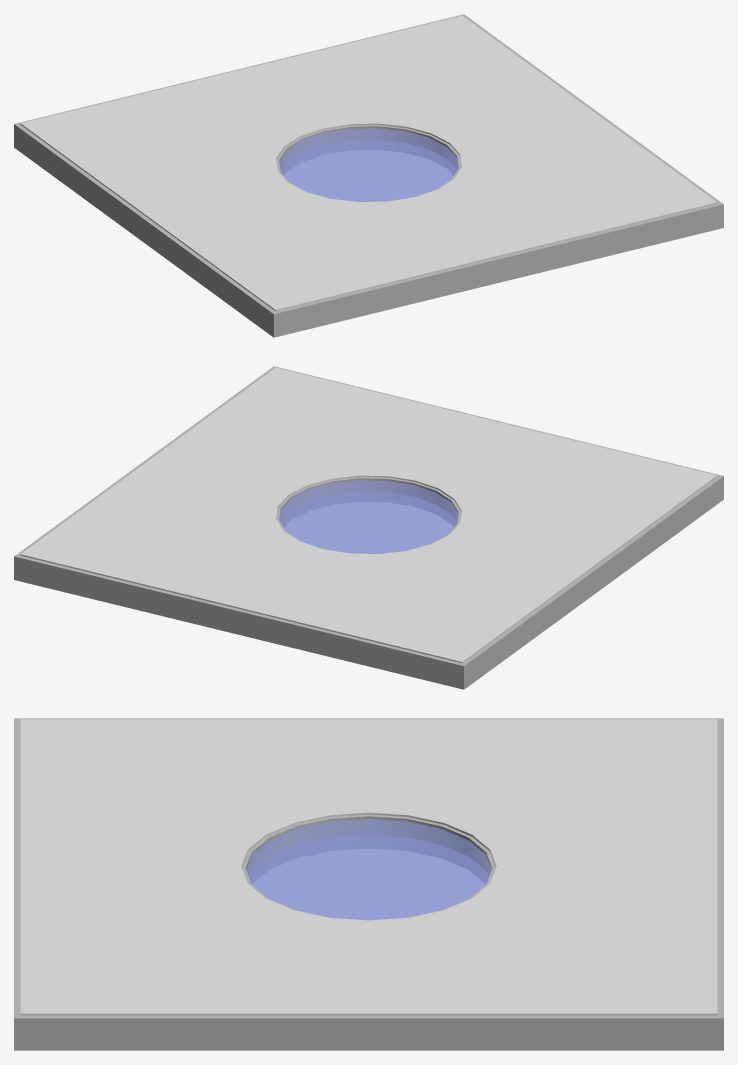
The model's file is Floor_special_1.fbx.
3 views of the same model, one above another, from view 1: azimuth 30°, elevation 25°; view 2: azimuth 150°, elevation 25°; view 3: azimuth 270°, elevation 25° (orthographic). The views are drawn at different scales.
Visible parts, largest first — view 1: pCube9, pCube17; view 2: pCube9, pCube17; view 3: pCube9, pCube17.
Boxes of the visible parts, <box> form: pCube9: <box>20,15,717,311</box>; pCube17: <box>14,14,723,337</box>; pCube9: <box>20,367,717,663</box>; pCube17: <box>14,366,723,689</box>; pCube9: <box>20,719,717,1015</box>; pCube17: <box>14,718,723,1050</box>.
Bounding box in the file's own units: 10 × 0.5293 × 10.
